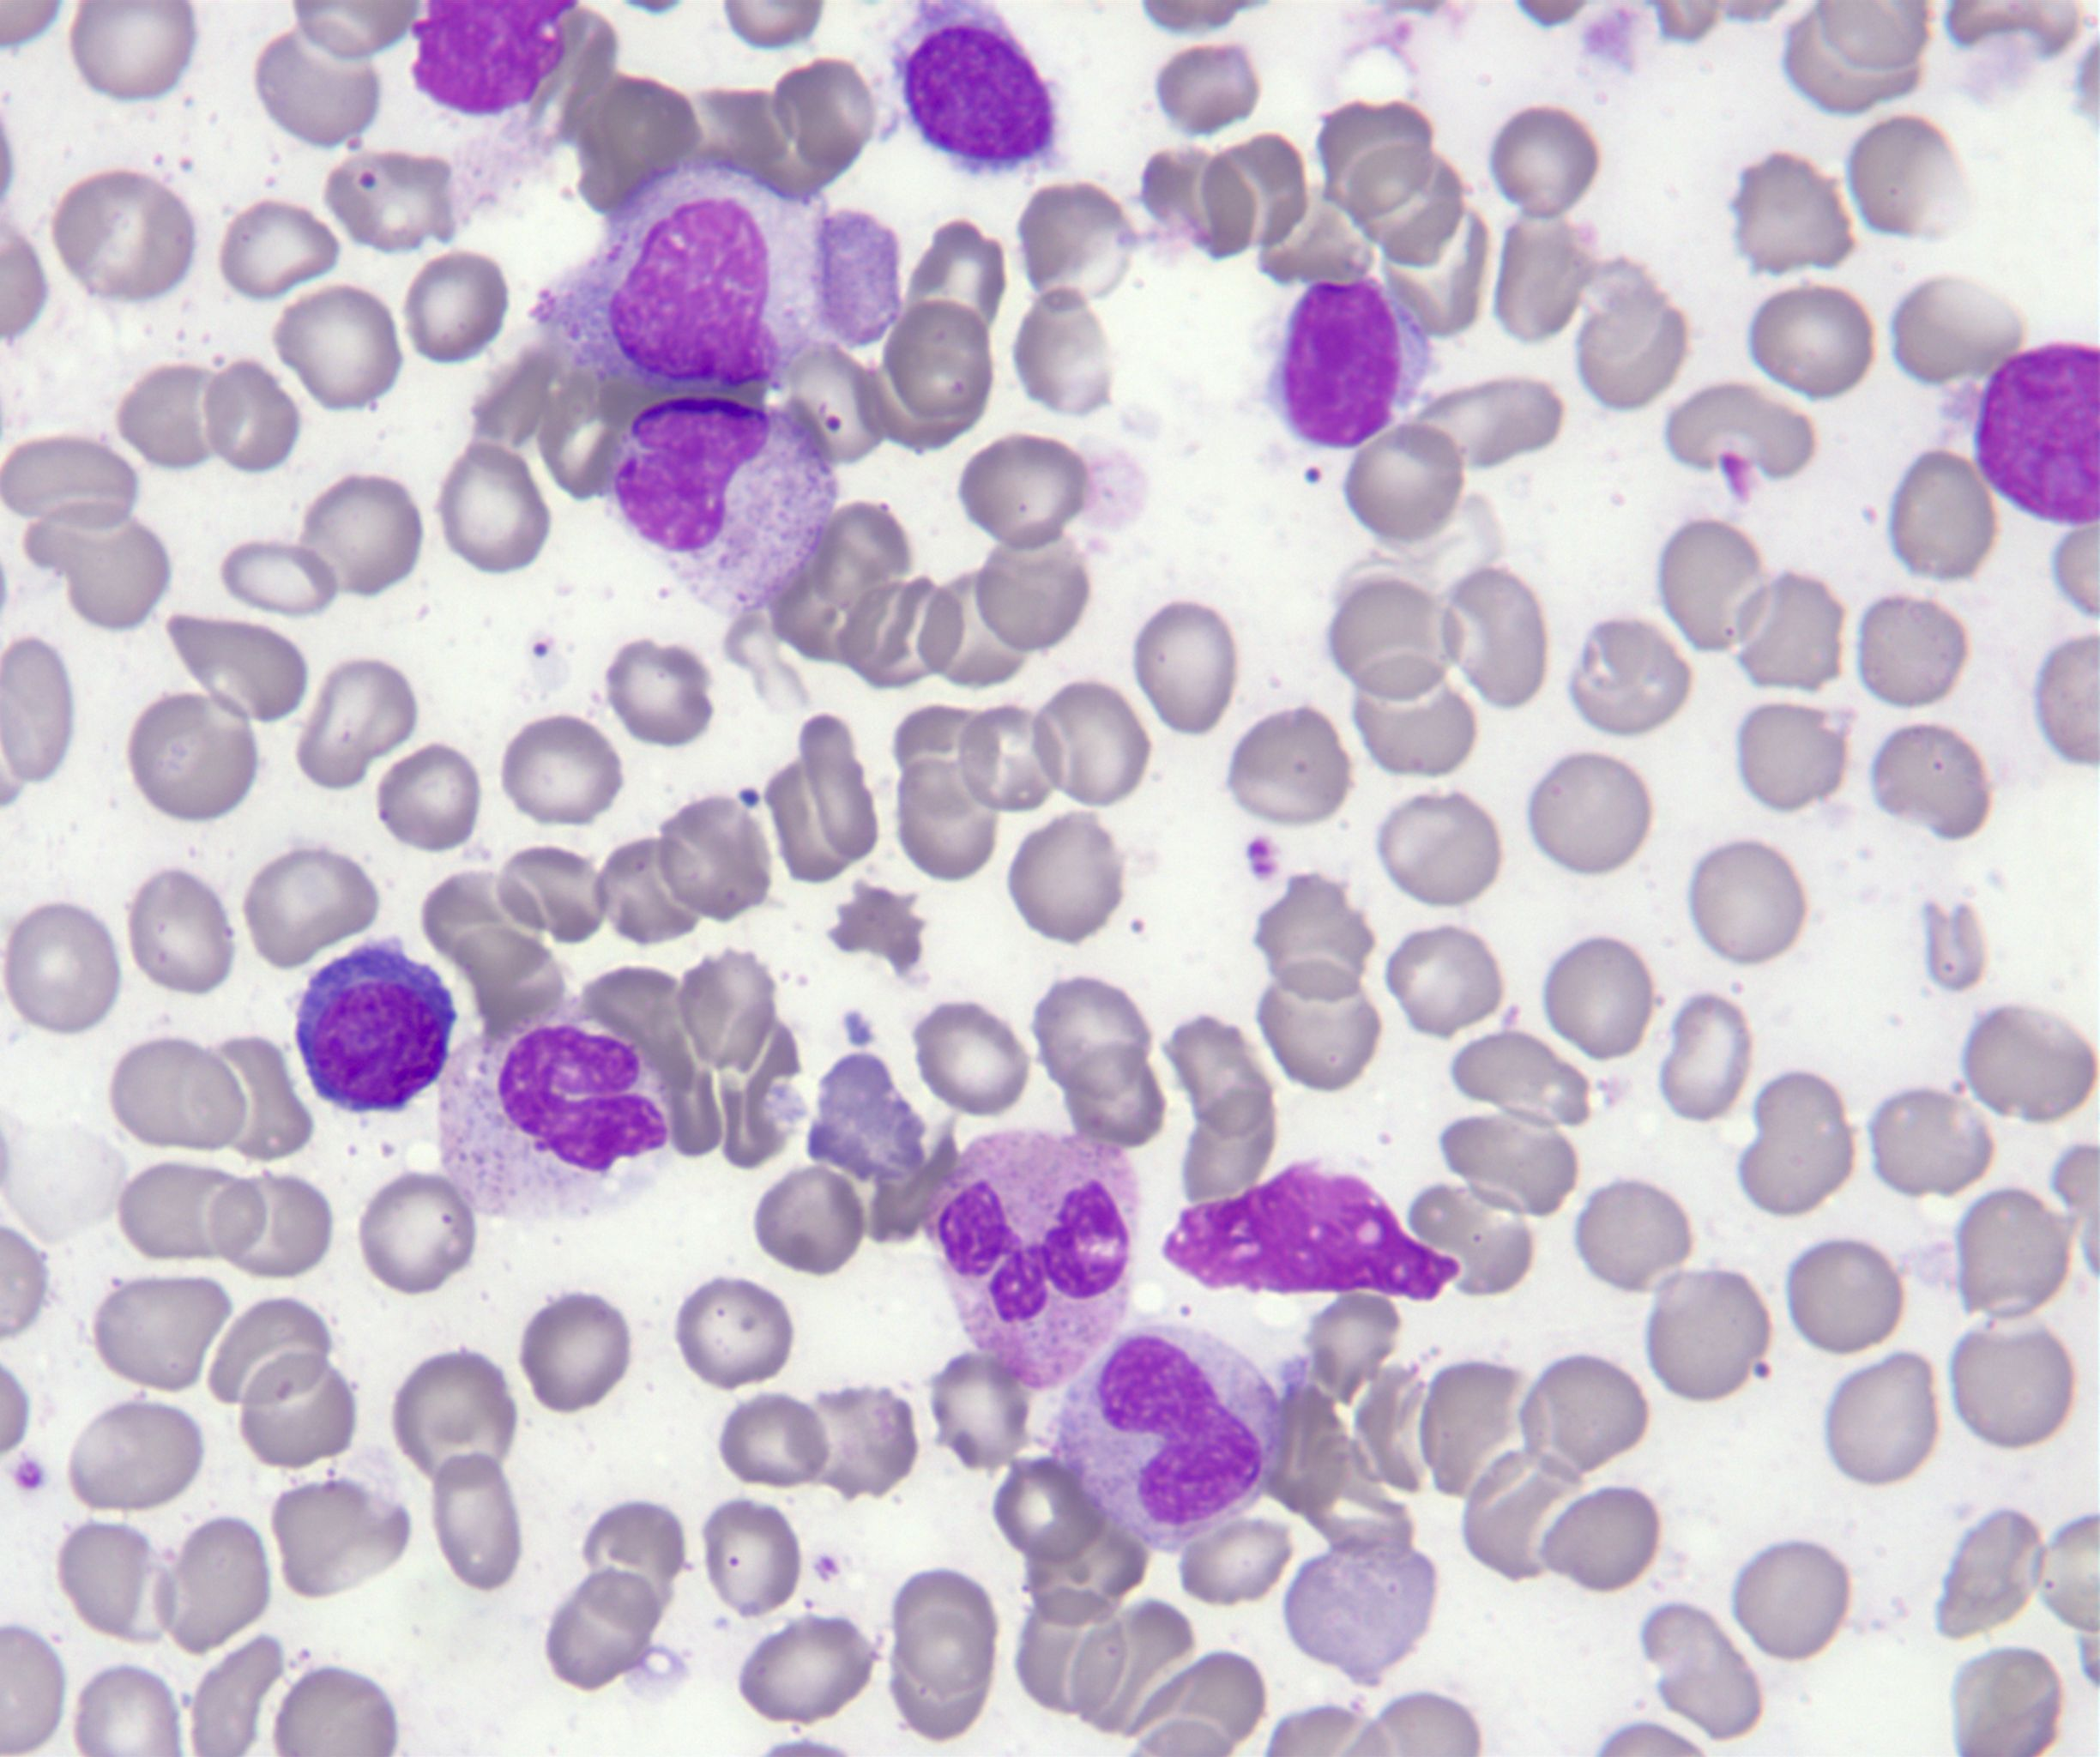23: (297, 937, 457, 1113)
3: (530, 161, 900, 387)
32: (1263, 274, 1434, 450)
4: (1055, 1326, 1278, 1553), (607, 396, 837, 614)
5: (438, 998, 672, 1211)
6: (923, 1131, 1141, 1389)
x: (1162, 1157, 1463, 1302), (893, 0, 1064, 176), (1976, 340, 2100, 525), (410, 3, 577, 117)
